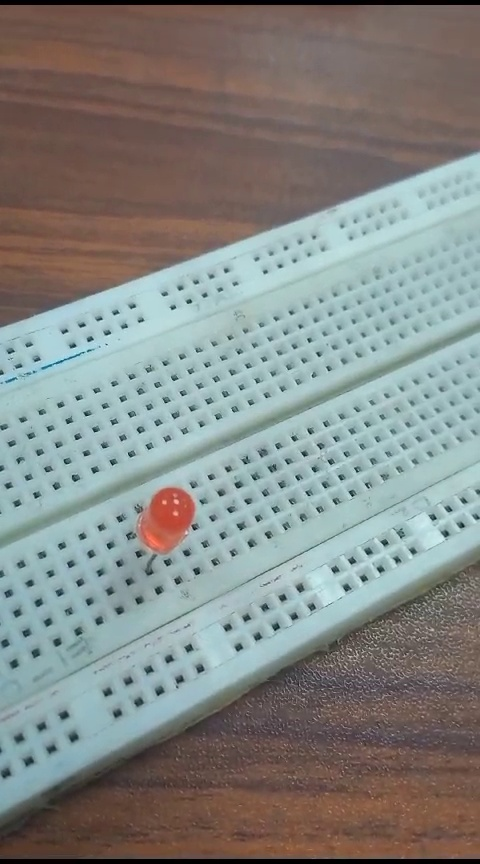LED: (138, 487, 207, 575)
